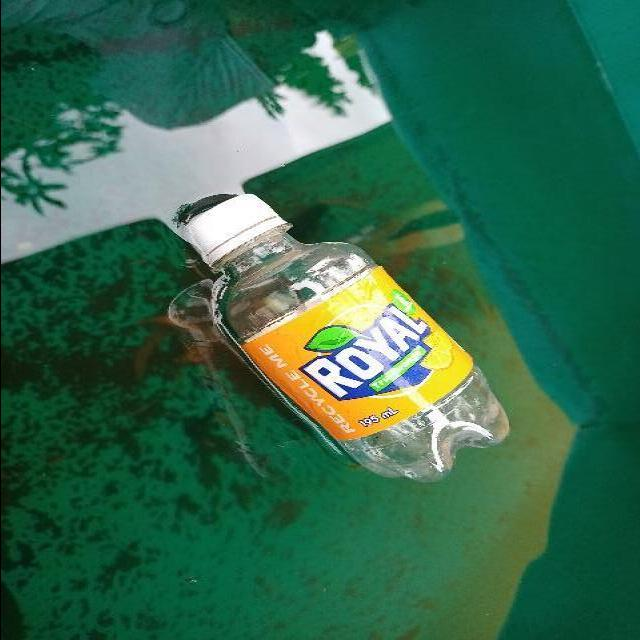Bottle: (159, 162, 532, 524)
